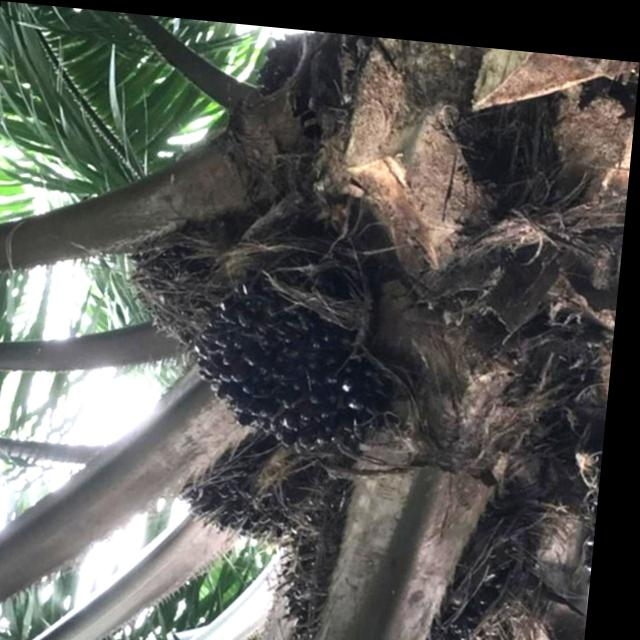almost: (117, 221, 392, 454), (279, 474, 535, 640), (178, 435, 343, 543)
